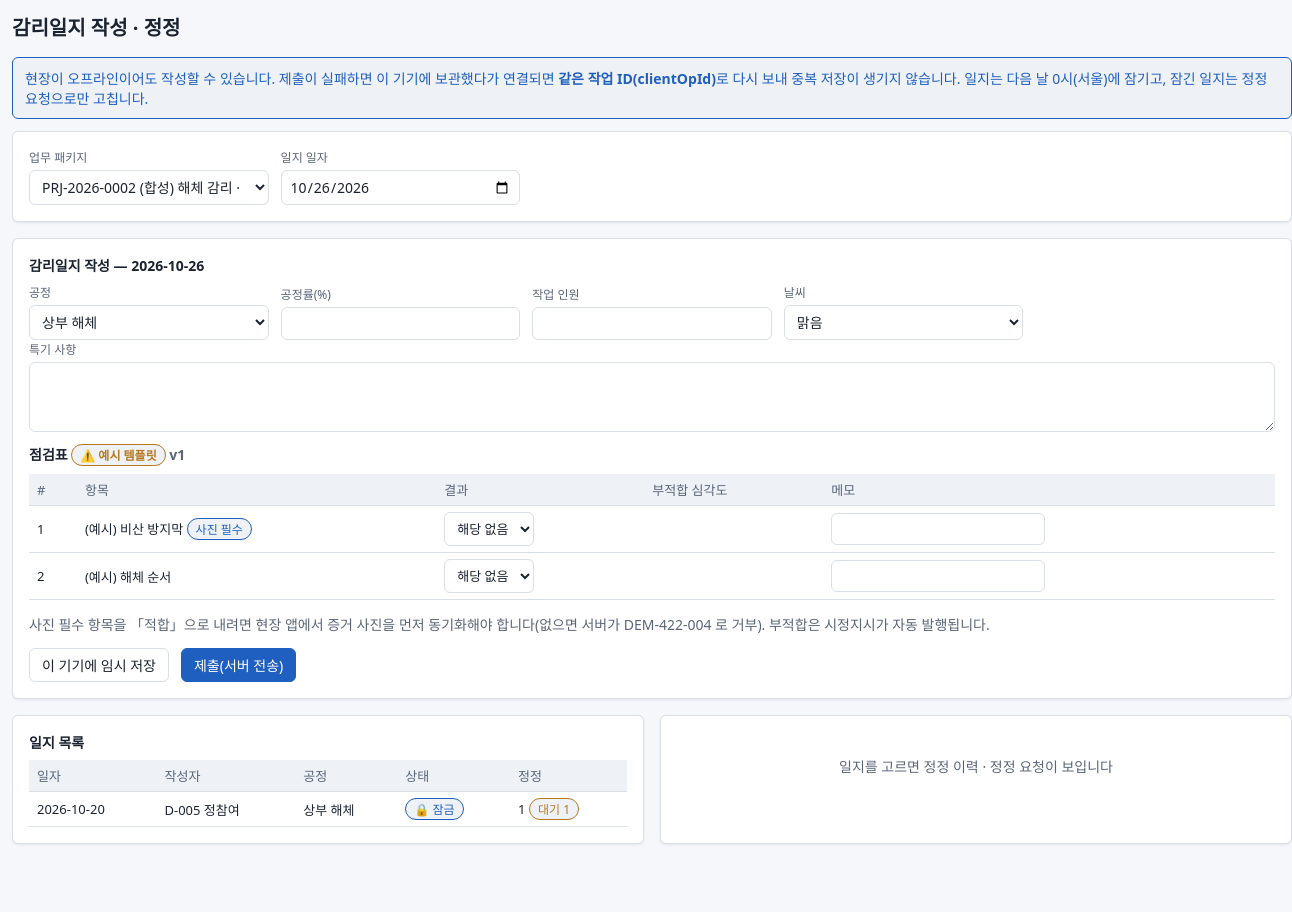
Test: 감리일지 작성 · 정정 화면 › 오프라인 제출 → 이 기기 보관(전송 대기) → online 이벤트에 같은 clientOpId 로 재전송
Select "부적합" in the dropdown named "결과 2" at coordinates (489, 576), box [444,559,534,593]
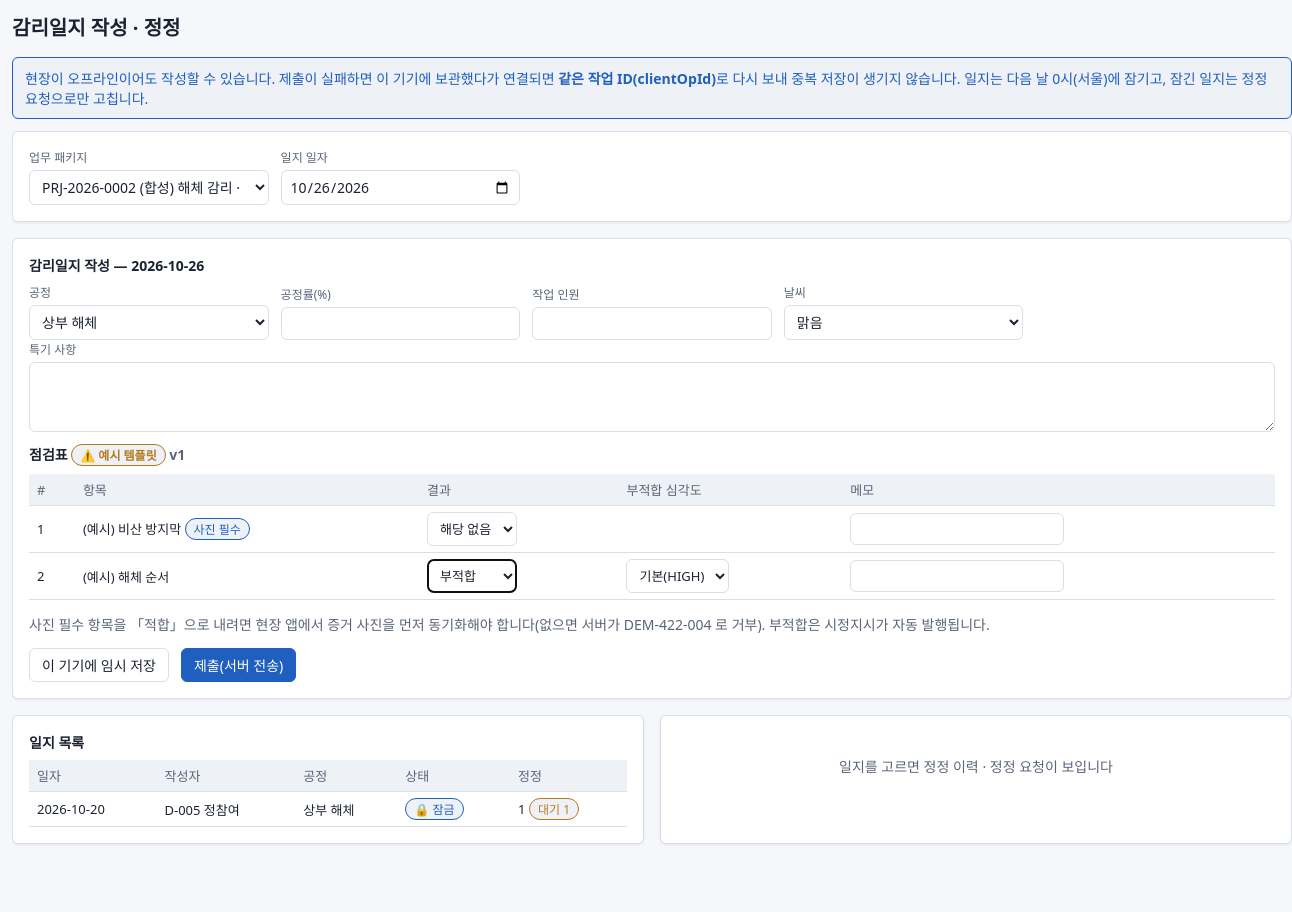
Type "12" into the number field labelled "작업 인원" at coordinates (652, 324), box [532,307,772,340]
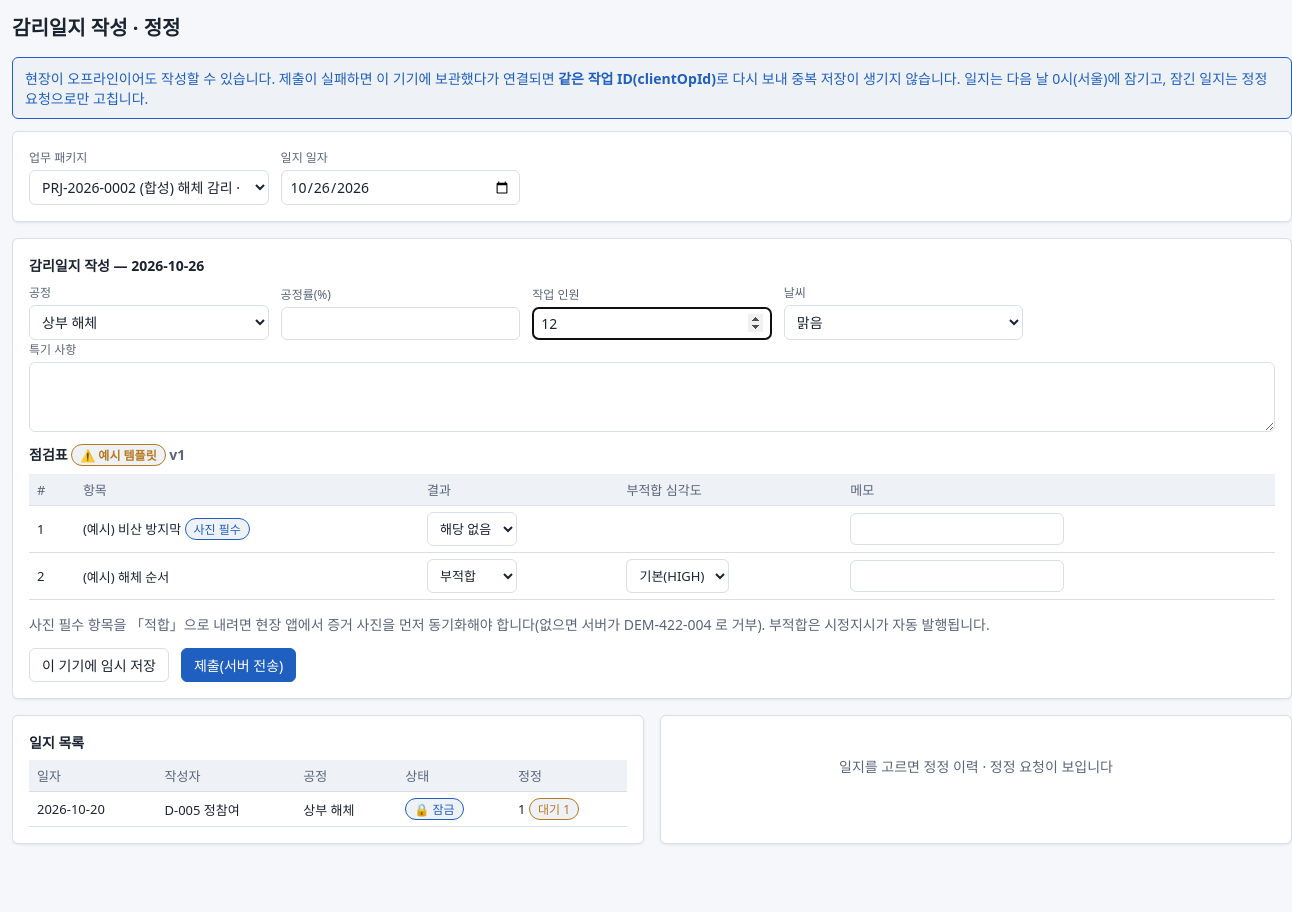
Type "(합성) 상부 해체 3일차" into the text box labelled "특기 사항" at coordinates (652, 397), box [29,362,1275,432]
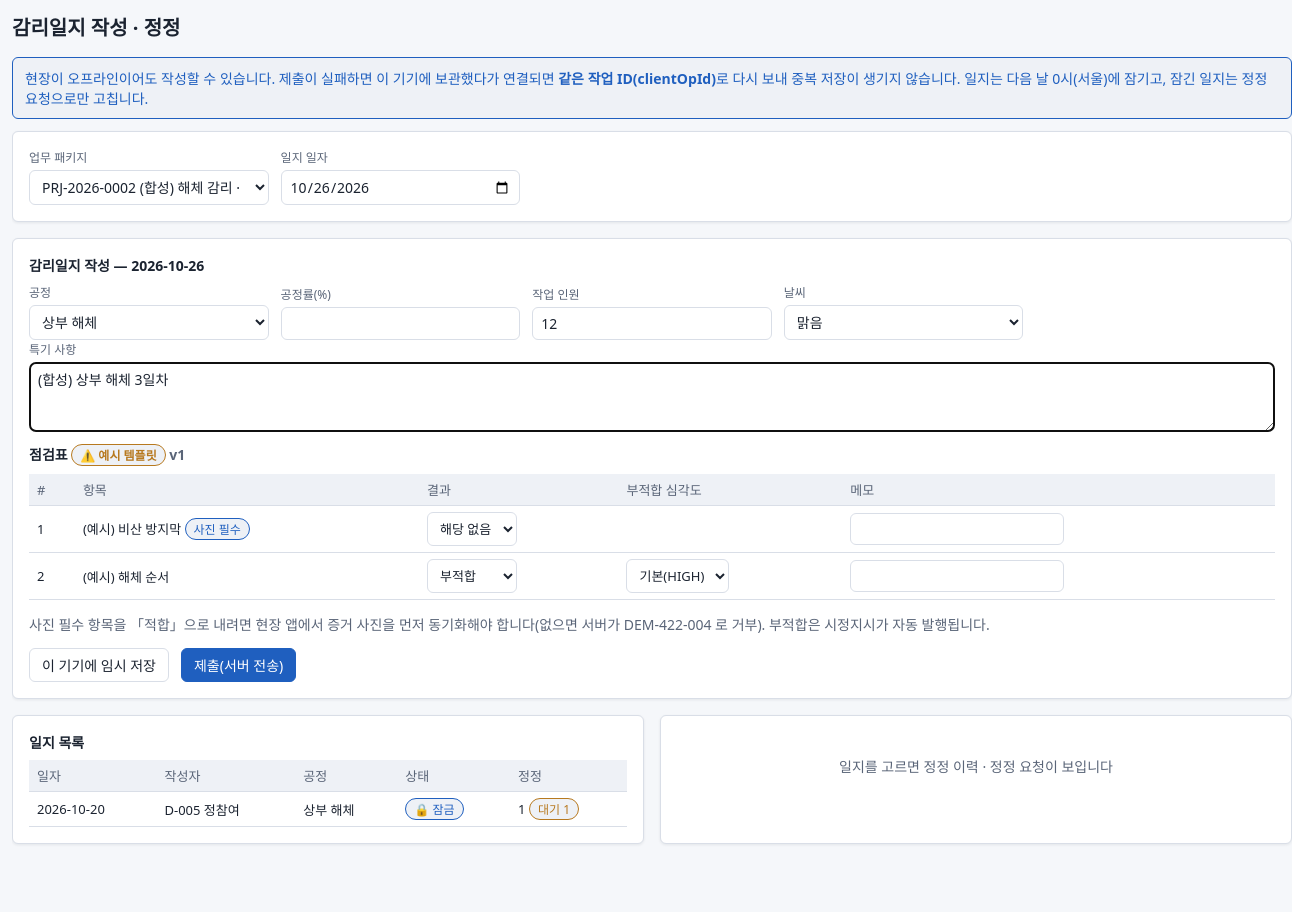
Click the button with test id "log-submit" at coordinates (239, 665), box [181,648,296,682]
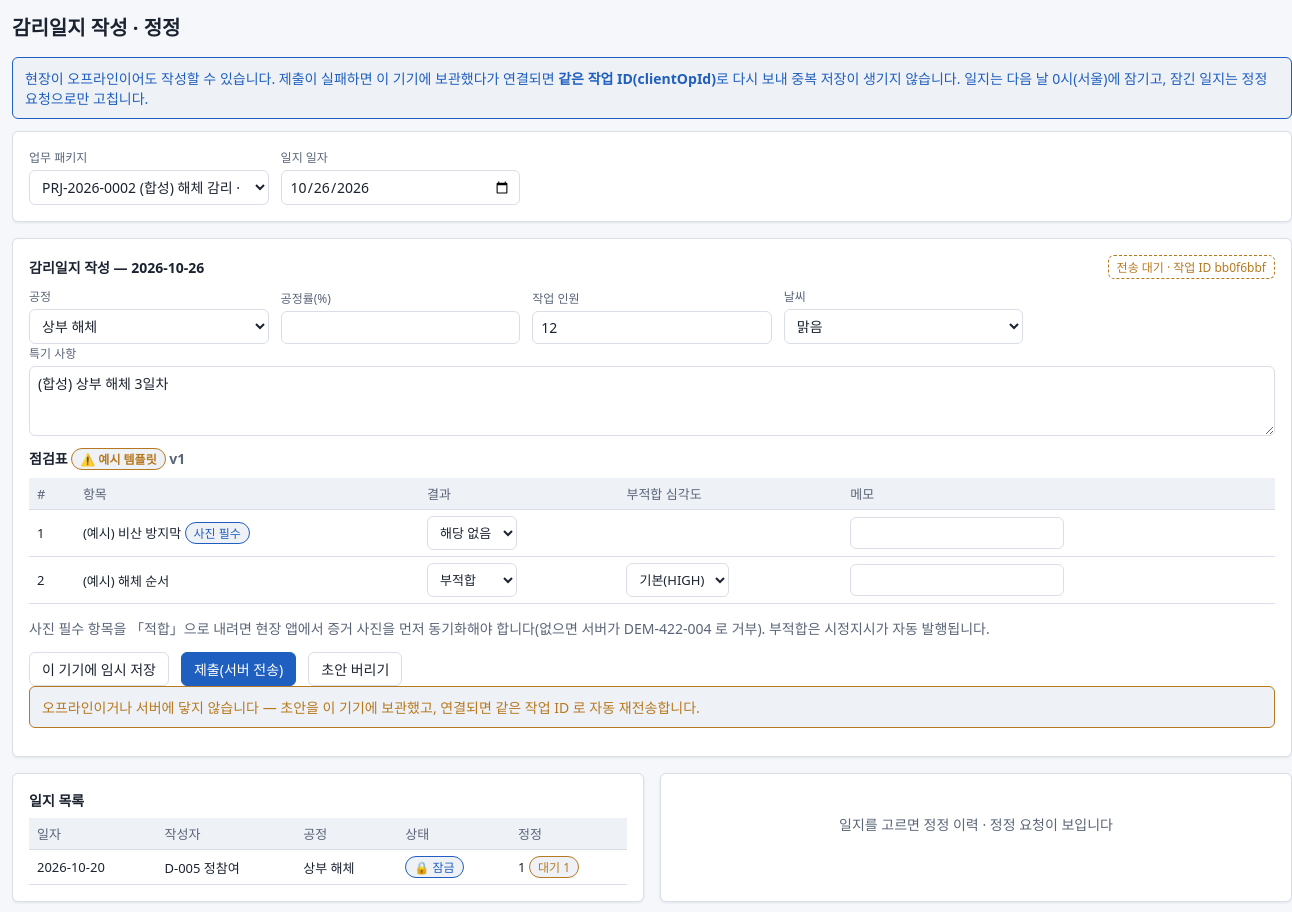
Expected: the message "오프라인이거나 서버에 닿지 않습니다 — 초안을 이 기기에 보관했고, 연결되면 같은 작업 ID 로 자동 재전송합니다." is shown, [29,686,1275,728]
